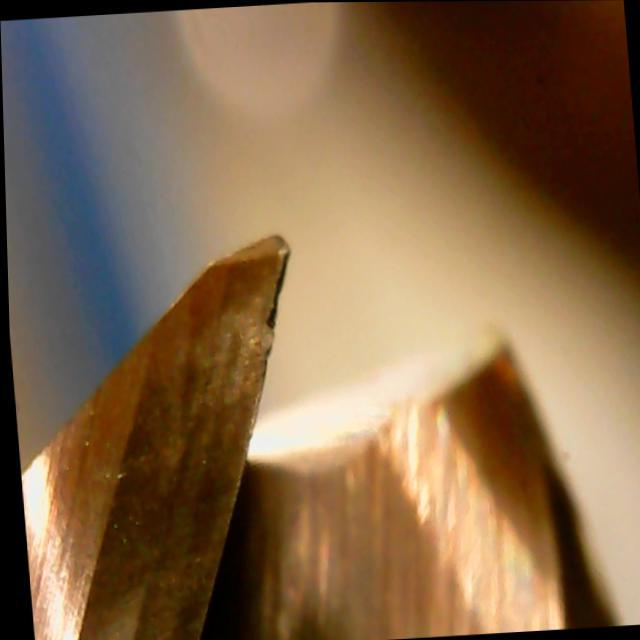Tool-wear-class-1: (147, 222, 326, 456)
